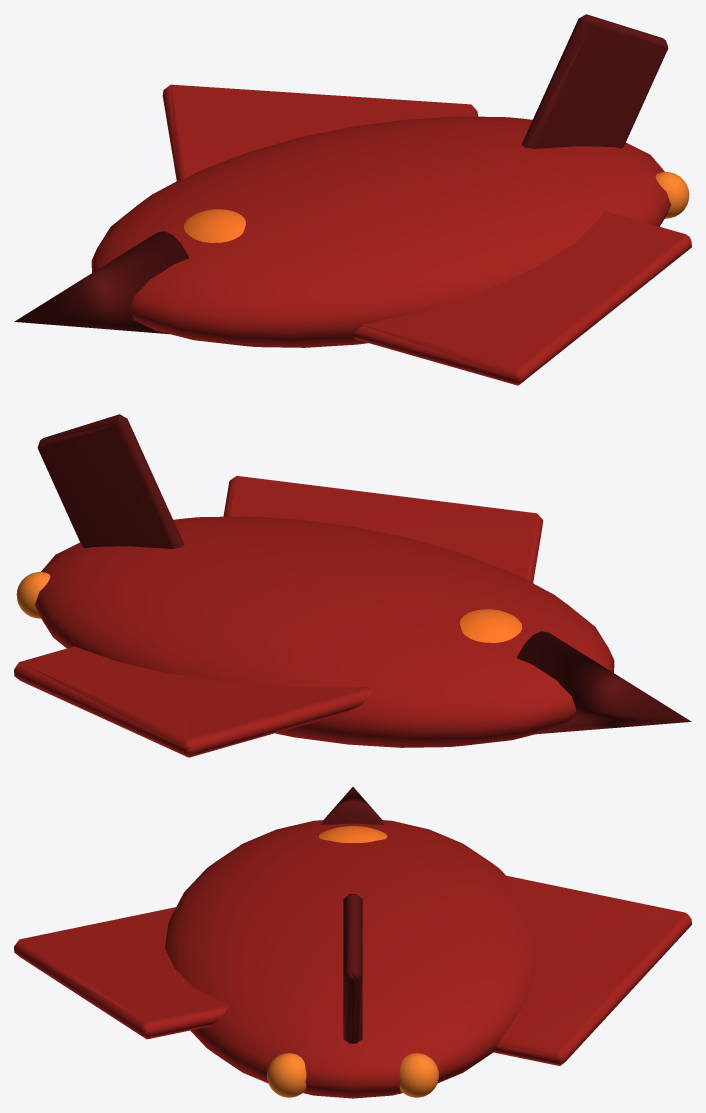
The model's file is pulse_enemy_rusher.obj.
3 views of the same model, one above another, from view 1: azimuth 30°, elevation 25°; view 2: azimuth 150°, elevation 25°; view 3: azimuth 270°, elevation 25° (orthographic). The views are drawn at different scales.
Parts seen in each view (by area): view 1: rusher_body, rusher_wing_-1, rusher_wing_1, rusher_tail, rusher_fang, rusher_eye, rusher_exhaust_-1; view 2: rusher_body, rusher_wing_1, rusher_wing_-1, rusher_tail, rusher_fang, rusher_eye, rusher_exhaust_1; view 3: rusher_body, rusher_wing_1, rusher_wing_-1, rusher_tail, rusher_exhaust_-1, rusher_exhaust_1, rusher_fang, rusher_eye.
Boxes of the visible parts, box(x1,y1,x2,y2) form: rusher_body: box(91, 116, 670, 347); rusher_wing_-1: box(353, 211, 691, 385); rusher_wing_1: box(162, 84, 478, 180); rusher_tail: box(521, 14, 668, 149); rusher_fang: box(14, 231, 188, 334); rusher_eye: box(184, 209, 245, 242); rusher_exhaust_-1: box(655, 172, 689, 218); rusher_body: box(35, 516, 614, 747); rusher_wing_1: box(14, 646, 371, 757); rusher_wing_-1: box(223, 476, 543, 582); rusher_tail: box(37, 414, 184, 549); rusher_fang: box(517, 631, 691, 734); rusher_eye: box(460, 609, 521, 642); rusher_exhaust_1: box(16, 572, 50, 618); rusher_body: box(165, 820, 534, 1098); rusher_wing_1: box(493, 873, 691, 1065); rusher_wing_-1: box(14, 907, 229, 1039); rusher_tail: box(343, 894, 362, 1043); rusher_exhaust_-1: box(267, 1053, 306, 1097); rusher_exhaust_1: box(399, 1053, 438, 1097); rusher_fang: box(321, 787, 384, 824); rusher_eye: box(318, 826, 387, 842).
Size of the model in its own units: 2.26 by 0.7512 by 2.13.
